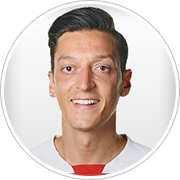smile: (69, 94, 101, 111)
